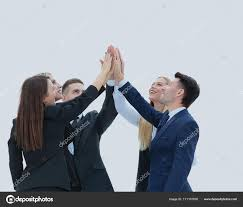person: (10, 62, 82, 153), (154, 57, 204, 149)
